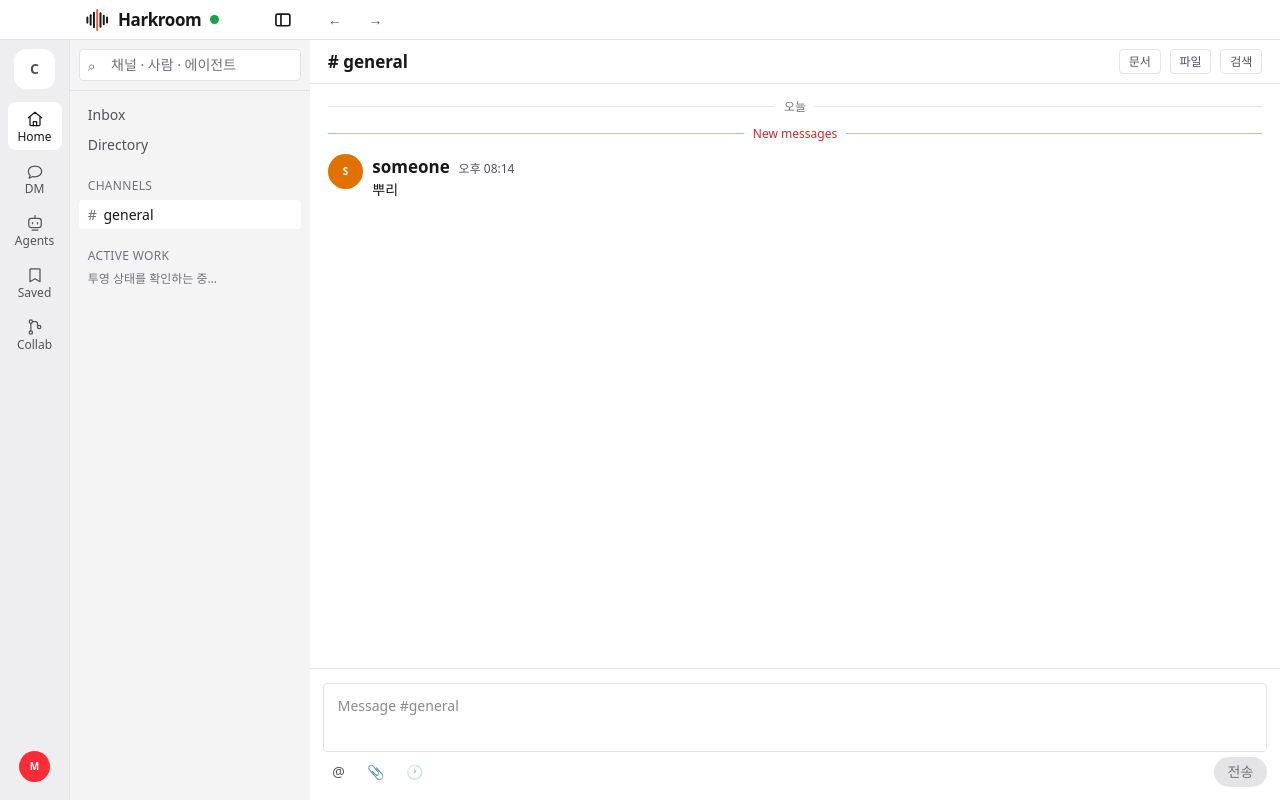
인박스 자리 — 닫는 길과 키보드 (#488 C2) › 이름 있는 구획이다 — 랜드마크로 찾을 수 있다
Click the button "Inbox". click: (190, 115)
box: [79,100,301,130]
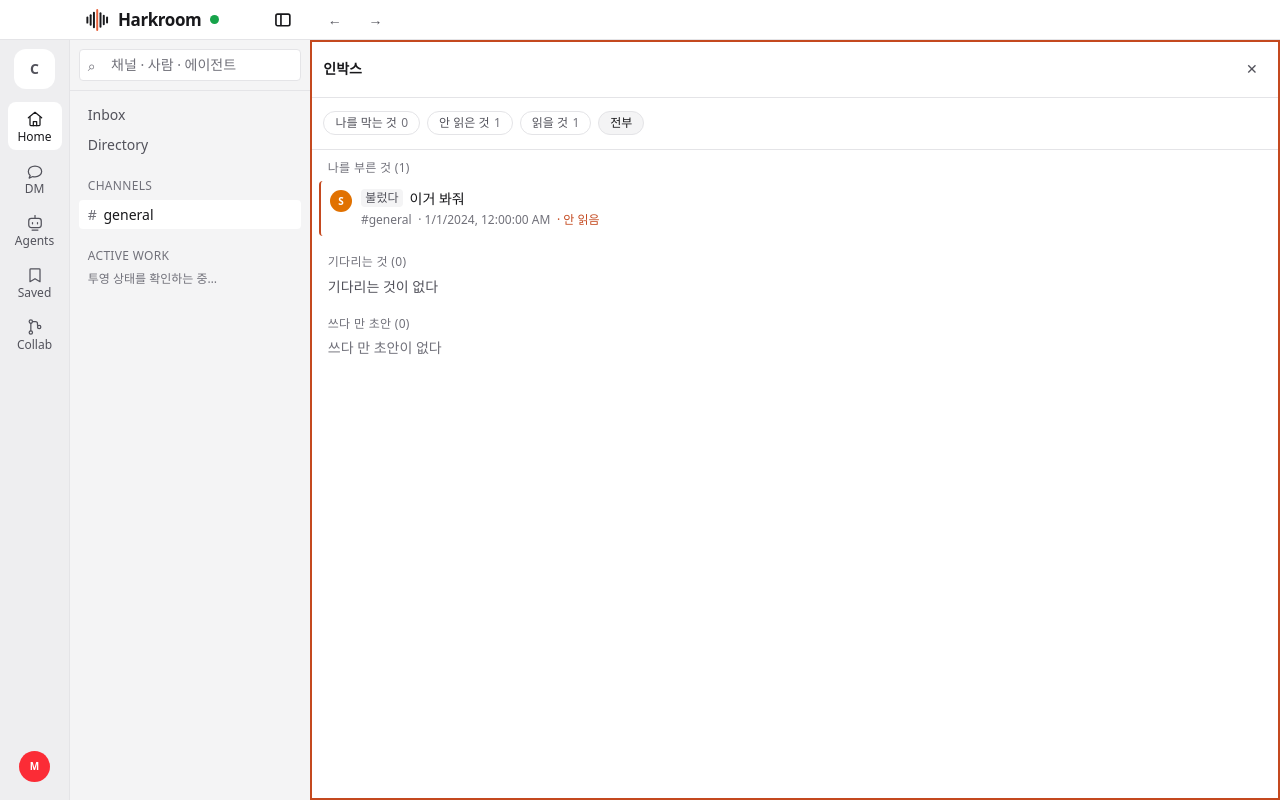
Result: the element with test id "inbox-pane" is shown
Result: the element "인박스" is shown
